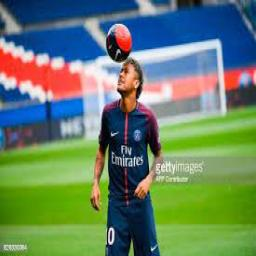football: (106, 22, 133, 64)
